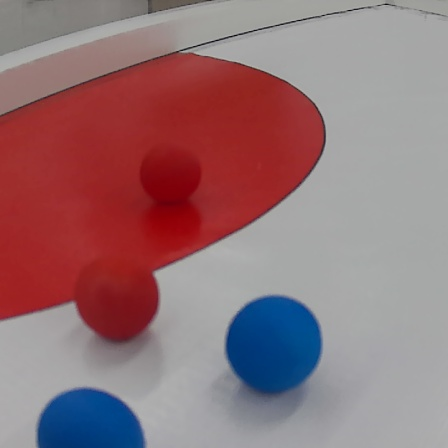blue: (222, 293, 324, 394), (35, 386, 150, 448)
red: (71, 256, 160, 347), (130, 142, 206, 205)
red_base: (0, 46, 327, 320)
